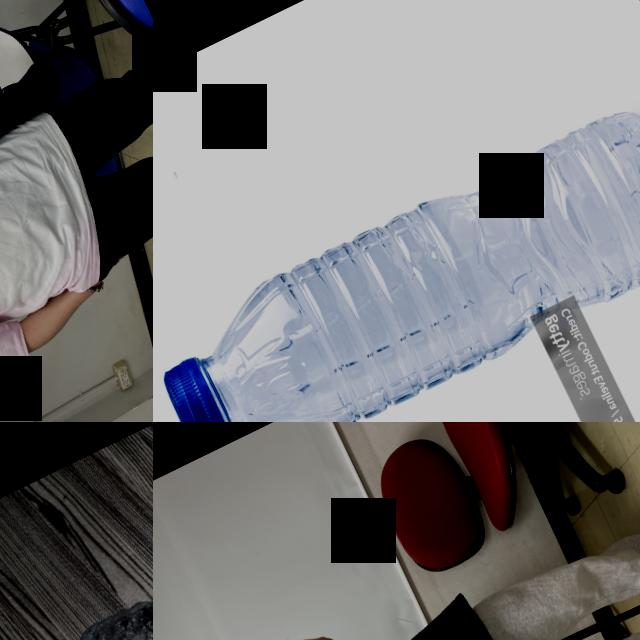bottle: (153, 91, 640, 422), (22, 454, 153, 640)
